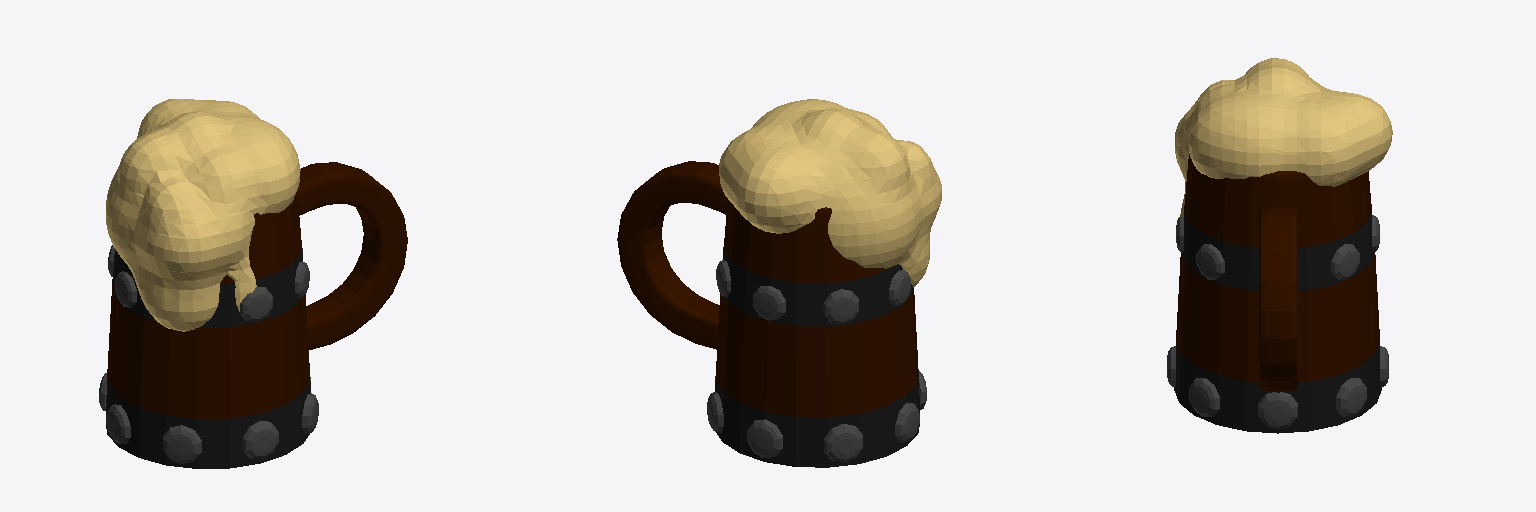
Rendered from Beer01.obj.
3 renders of one model, left to right at view 1: azimuth 30°, elevation 25°; view 2: azimuth 150°, elevation 25°; view 3: azimuth 270°, elevation 25°, orthographic.
Visible parts, largest first — view 1: Beer01_Sphere.015; view 2: Beer01_Sphere.015; view 3: Beer01_Sphere.015.
Part boxes in pixels (x1,y1,x2,y2): Beer01_Sphere.015: (99,99,407,468); Beer01_Sphere.015: (617,99,941,467); Beer01_Sphere.015: (1167,58,1392,433).
Bounding box in the file's own units: 2.94 × 3.06 × 1.99.